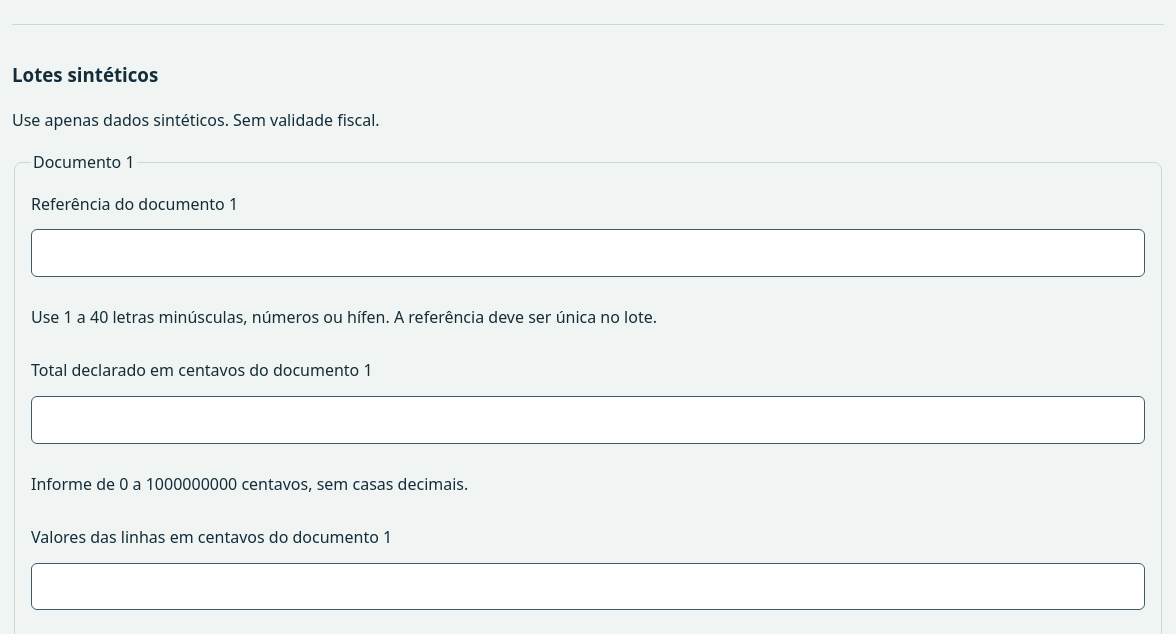
it: creates a validated synthetic batch through the BFF and shows its receipt
The image size is (1176, 634).
Type "demo-a" into the field labelled "Referência do documento 1" at [588, 253], box [31,229,1145,277]
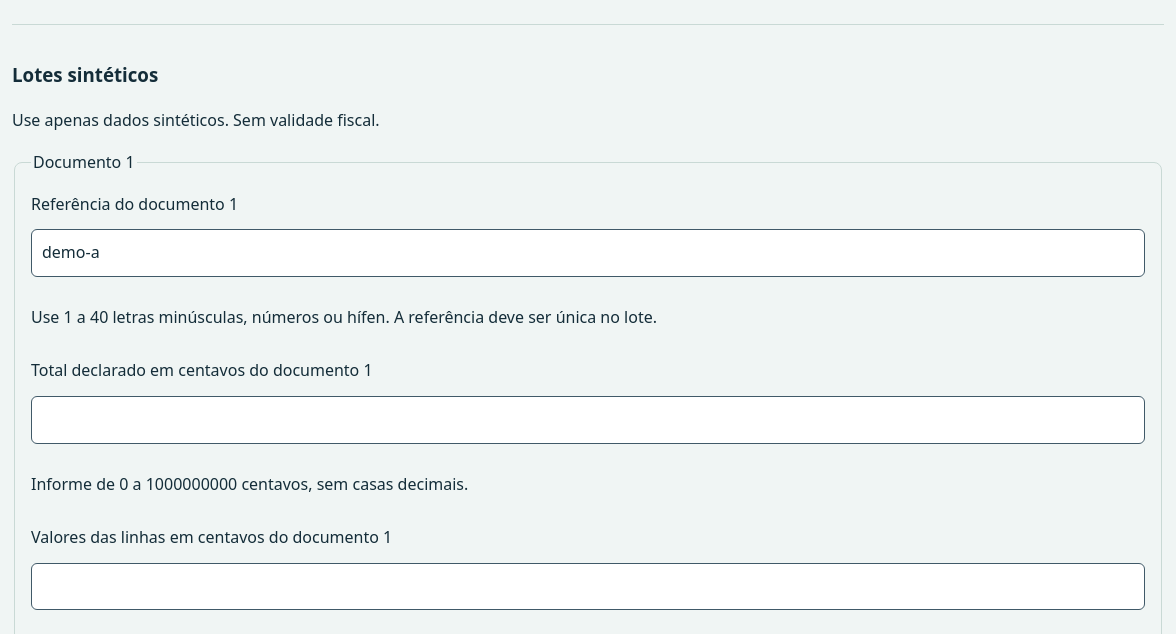
Type "999" into the field labelled "Total declarado em centavos do documento 1" at [588, 420], box [31,396,1145,444]
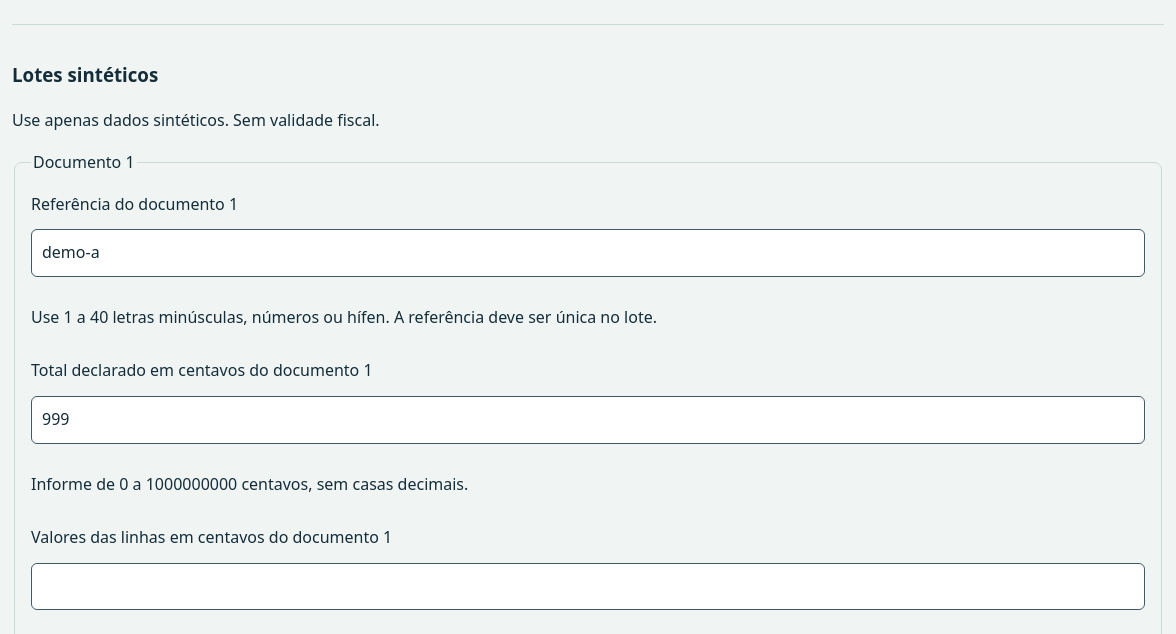
Type "100, 200" into the field labelled "Valores das linhas em centavos do documento 1" at [588, 586], box [31,563,1145,610]
(page scrolled)
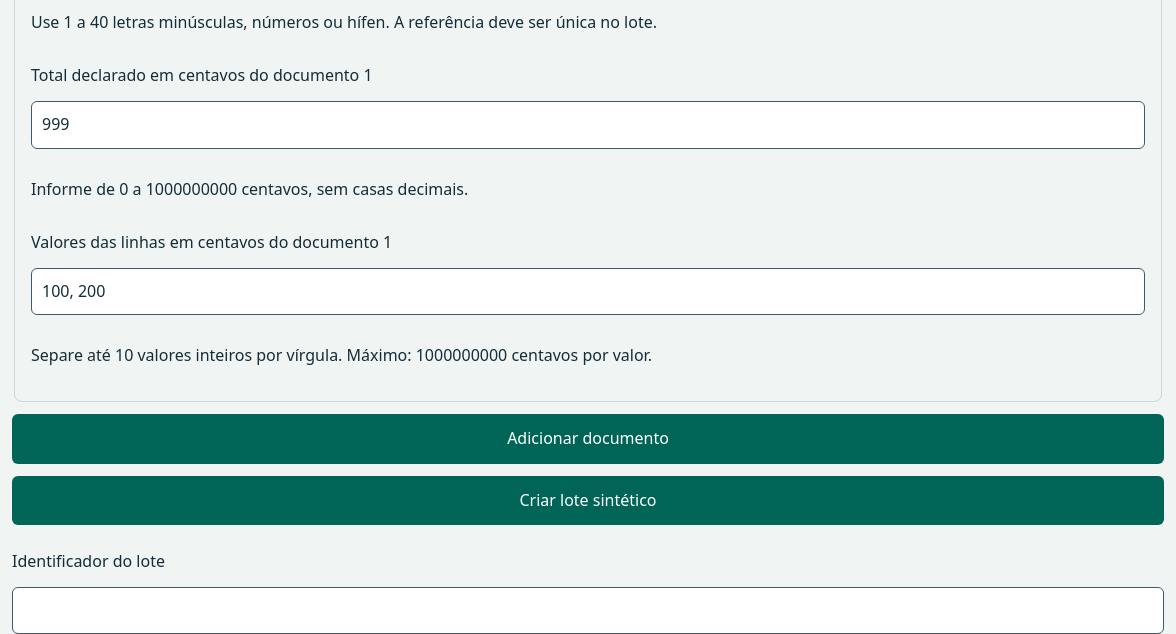
Click the button "Criar lote sintético" at [588, 500], box [12,476,1164,525]
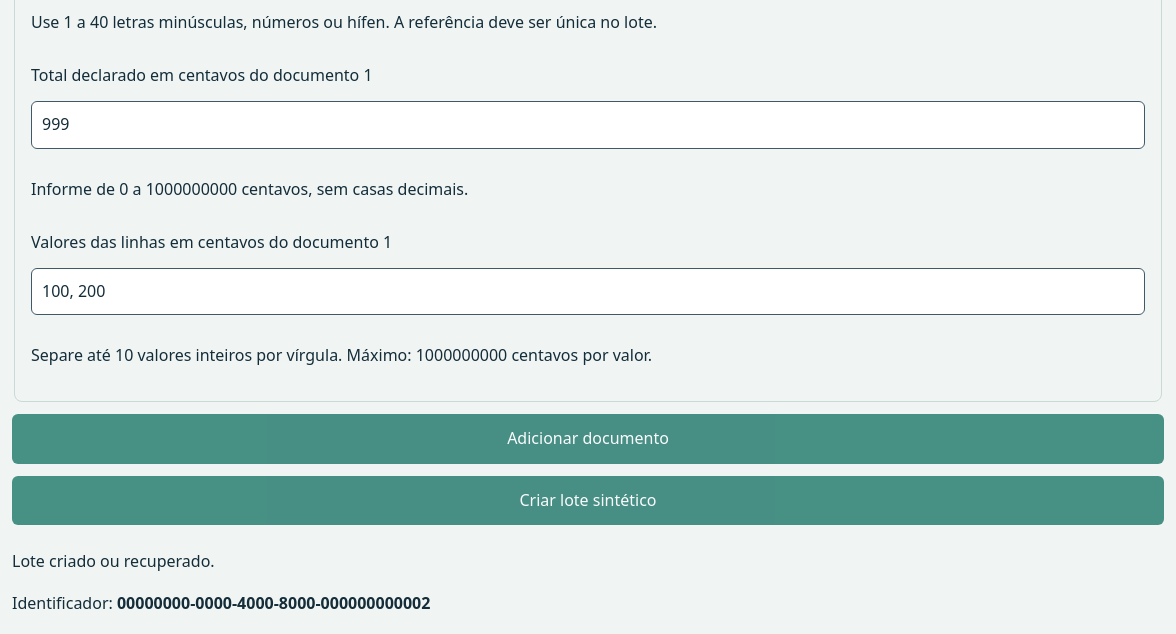
Result: the text "00000000-0000-4000-8000-000000000002" is shown at [117,592,430,614]
